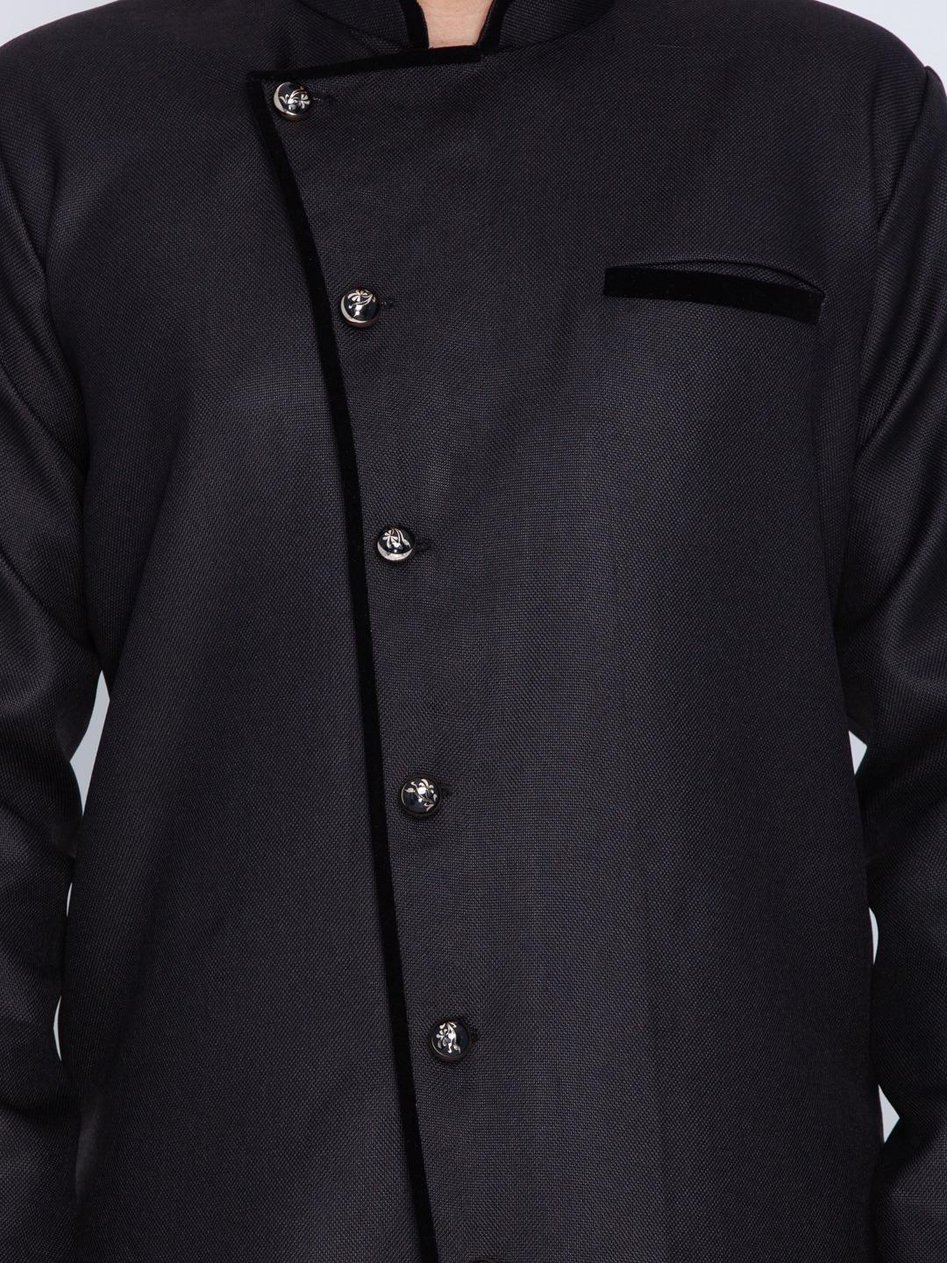Plain Sherwani: (5, 4, 940, 1247)
